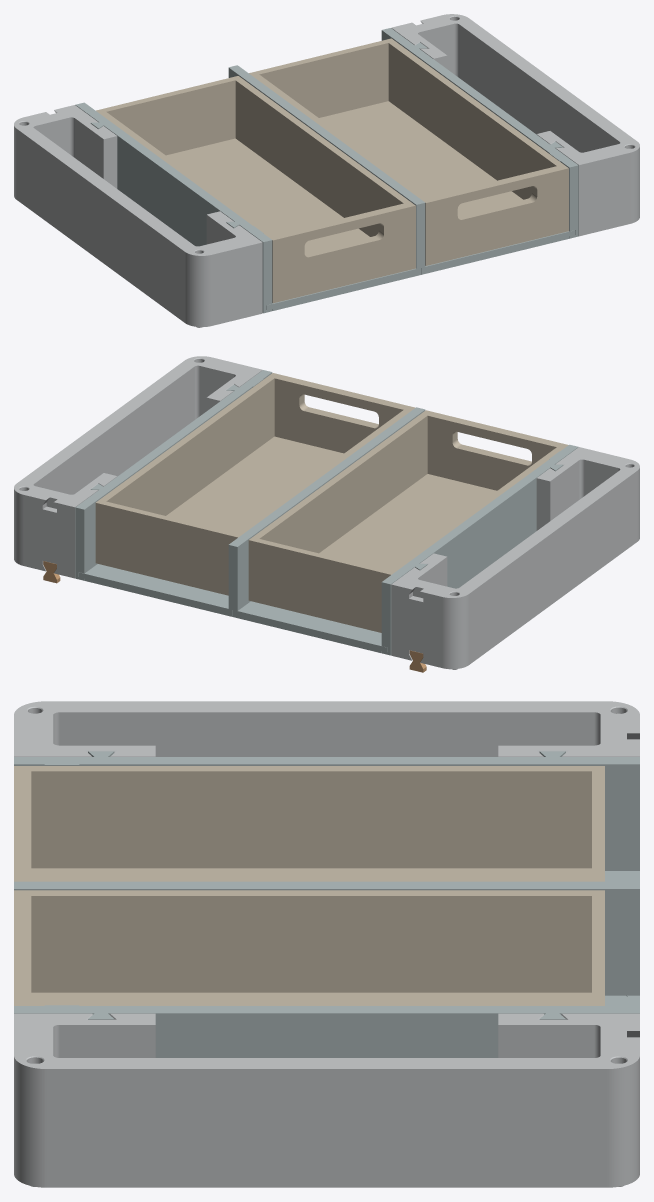
Rendered from layer-assembly.glb.
3 views of the same model, one above another, from view 1: azimuth 30°, elevation 25°; view 2: azimuth 150°, elevation 25°; view 3: azimuth 270°, elevation 25° (orthographic). The views are drawn at different scales.
Parts seen in each view (by area): view 1: drawer_2, drawer_1, end_left_1, end_right_1, side_left, side_right, divider_1, front_beam_2, front_beam_1; view 2: drawer_2, drawer_1, end_left_1, end_right_1, side_left, side_right, divider_1, rear_beam_1, rear_beam_2; view 3: end_right_1, drawer_1, drawer_2, end_left_1, side_right, divider_1, side_left.
Part boxes in pixels (x1=…): drawer_2: x1=249, y1=38, x2=568, y2=265; drawer_1: x1=96, y1=76, x2=415, y2=303; end_left_1: x1=14, y1=105, x2=262, y2=327; end_right_1: x1=391, y1=14, x2=639, y2=236; side_left: x1=75, y1=102, x2=272, y2=313; side_right: x1=381, y1=28, x2=578, y2=238; divider_1: x1=228, y1=65, x2=425, y2=268; front_beam_2: x1=421, y1=230, x2=575, y2=274; front_beam_1: x1=266, y1=268, x2=420, y2=310; drawer_2: x1=95, y1=373, x2=415, y2=595; drawer_1: x1=248, y1=410, x2=568, y2=632; end_left_1: x1=391, y1=447, x2=639, y2=669; end_right_1: x1=14, y1=356, x2=262, y2=578; side_left: x1=381, y1=444, x2=578, y2=655; side_right: x1=75, y1=370, x2=272, y2=580; divider_1: x1=228, y1=407, x2=425, y2=610; rear_beam_1: x1=233, y1=601, x2=387, y2=652; rear_beam_2: x1=78, y1=564, x2=232, y2=616; end_right_1: x1=14, y1=1013, x2=639, y2=1187; drawer_1: x1=14, y1=766, x2=604, y2=881; drawer_2: x1=14, y1=890, x2=604, y2=1005; end_left_1: x1=14, y1=701, x2=639, y2=756; side_right: x1=14, y1=1005, x2=639, y2=1057; divider_1: x1=14, y1=881, x2=639, y2=995; side_left: x1=14, y1=751, x2=639, y2=870.
Size of the model in its own units: 0.399 by 0.068 by 0.287.
